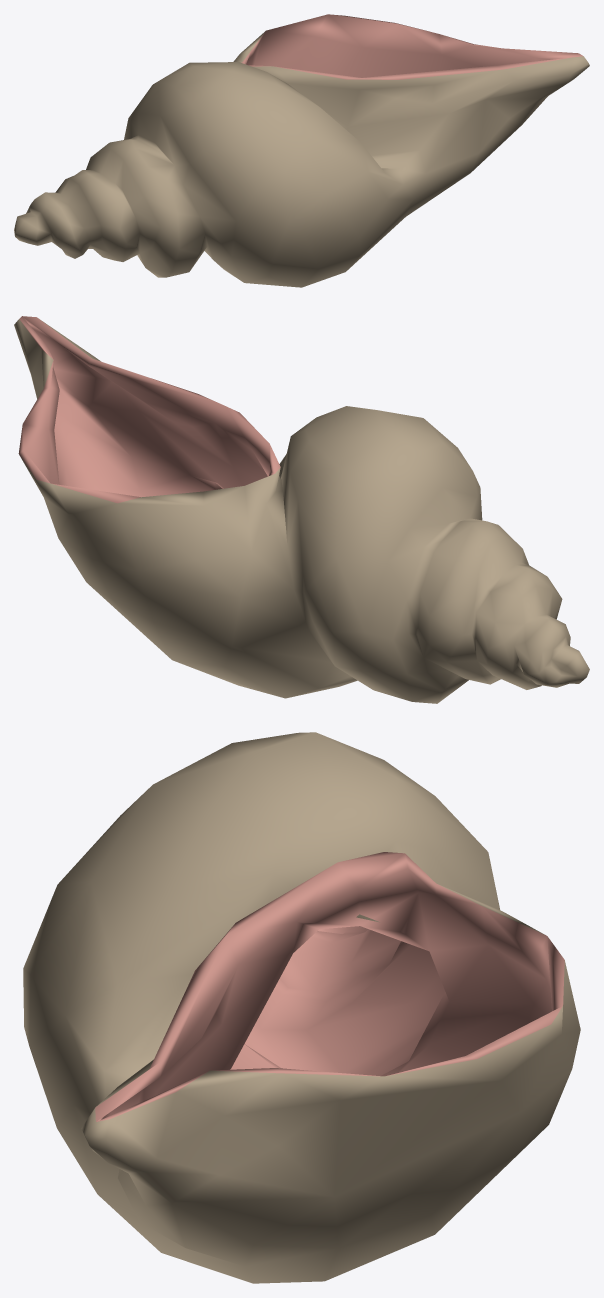
File: shell-a.glb
The picture shows the model from 3 angles, top to bottom: view 1: azimuth 30°, elevation 25°; view 2: azimuth 150°, elevation 25°; view 3: azimuth 270°, elevation 25°; orthographic projection. The views are drawn at different scales.
Parts seen in each view (by area): view 1: Shell.001; view 2: Shell.001; view 3: Shell.001.
Part boxes in pixels (x1,y1,x2,y2): Shell.001: (14,14,589,287); Shell.001: (14,316,589,703); Shell.001: (23,732,580,1283).
Bounding box in the file's own units: 0.26 × 0.1092 × 0.1237.
